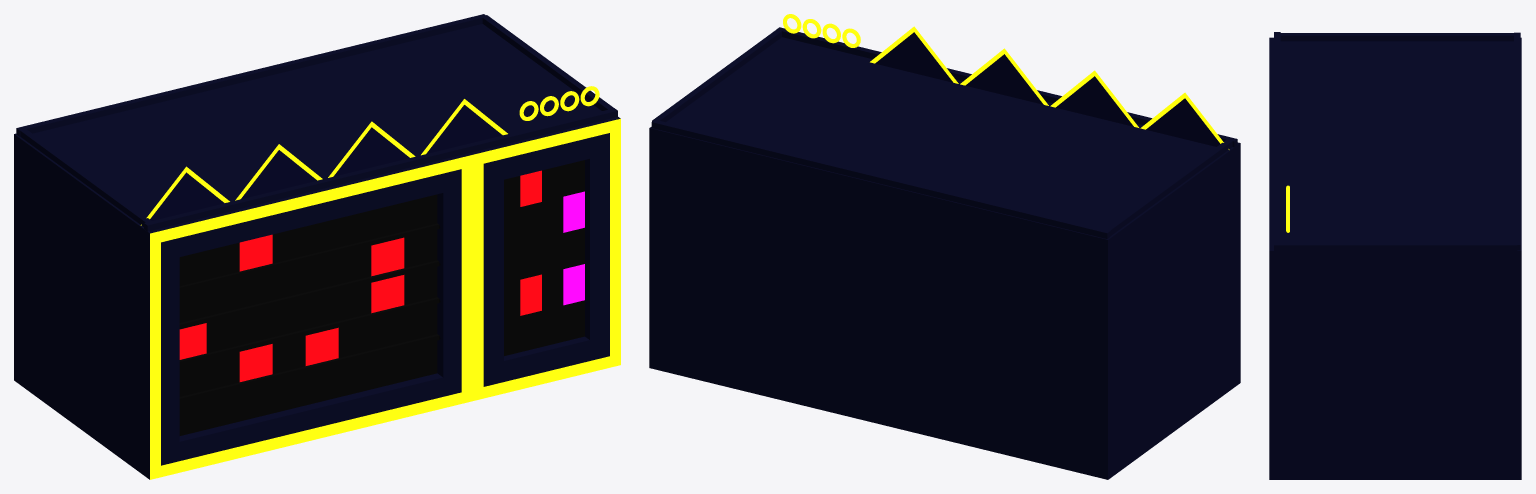
File: house6.glb
The picture shows the model from 3 angles, left to right: view 1: azimuth 30°, elevation 25°; view 2: azimuth 150°, elevation 25°; view 3: azimuth 270°, elevation 25°; orthographic projection. The views are drawn at different scales.
Parts seen in each view (by area): view 1: 立方体, 平面, 立方体.001, 立方体.002, 立方体.003, 立方体.004, 环体; view 2: 立方体, 平面, 立方体.002, 立方体.003, 立方体.004, 立方体.001, 环体; view 3: 立方体, 立方体.004, 立方体.003, 立方体.001, 立方体.002.
Part boxes in pixels (x1,y1,x2,y2): 立方体: [14, 24, 620, 479]; 平面: [140, 99, 507, 225]; 立方体.001: [144, 108, 617, 231]; 立方体.002: [16, 14, 487, 136]; 立方体.003: [19, 128, 151, 226]; 立方体.004: [482, 15, 613, 110]; 环体: [519, 86, 599, 120]; 立方体: [649, 37, 1240, 479]; 平面: [870, 26, 1229, 149]; 立方体.002: [651, 119, 1110, 238]; 立方体.003: [1103, 139, 1232, 235]; 立方体.004: [652, 30, 781, 122]; 立方体.001: [776, 27, 1237, 147]; 环体: [783, 14, 860, 47]; 立方体: [1269, 37, 1521, 479]; 立方体.004: [1280, 242, 1517, 250]; 立方体.003: [1280, 33, 1515, 41]; 立方体.001: [1274, 32, 1280, 250]; 立方体.002: [1514, 32, 1520, 250].
Size of the model in its own units: 40 by 23.91 by 20.
